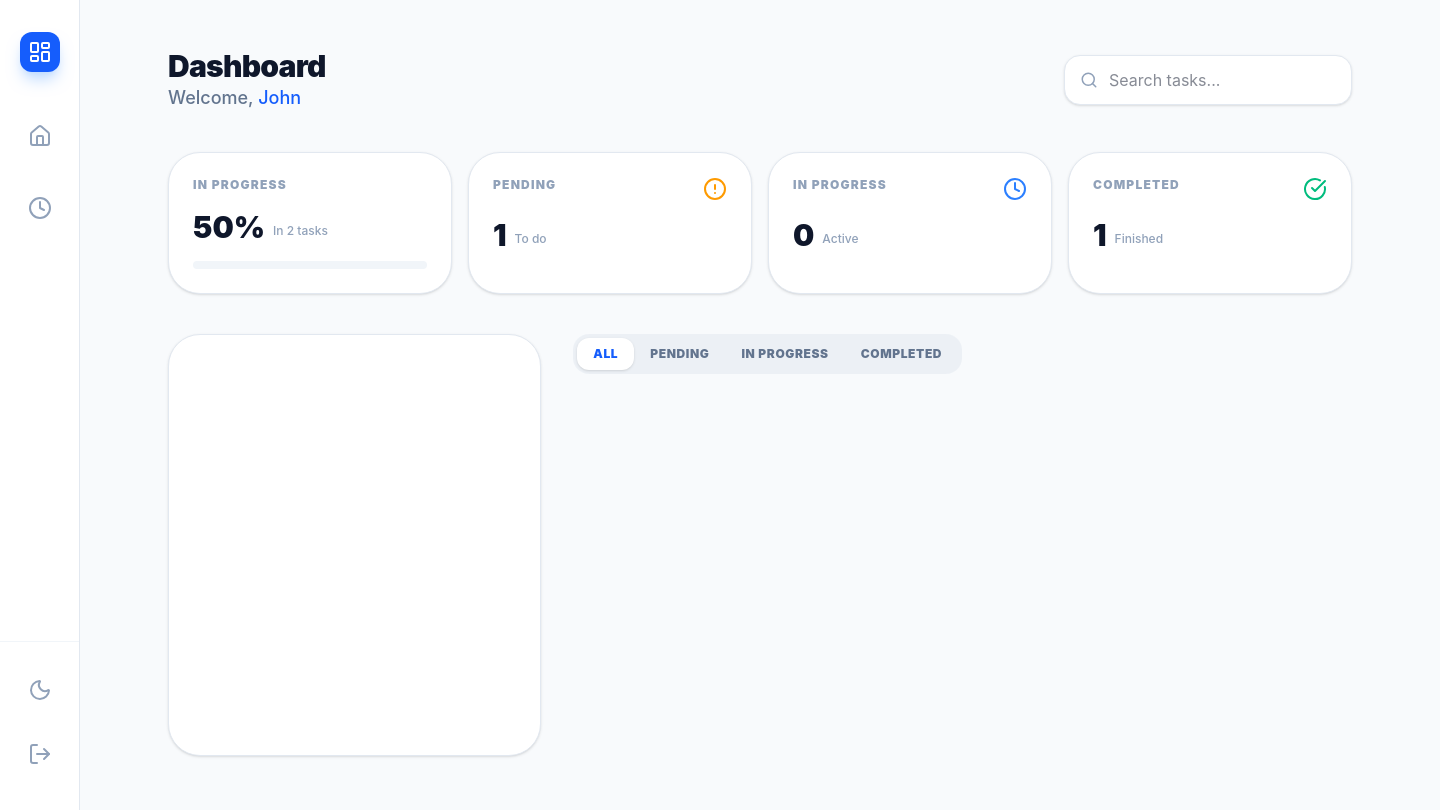
Dashboard Component › should filter tasks by the search term
Type "Task 1" into the field with placeholder "Search tasks...".
click(1208, 80); type("Task 1")  # box [1064,55,1352,105]
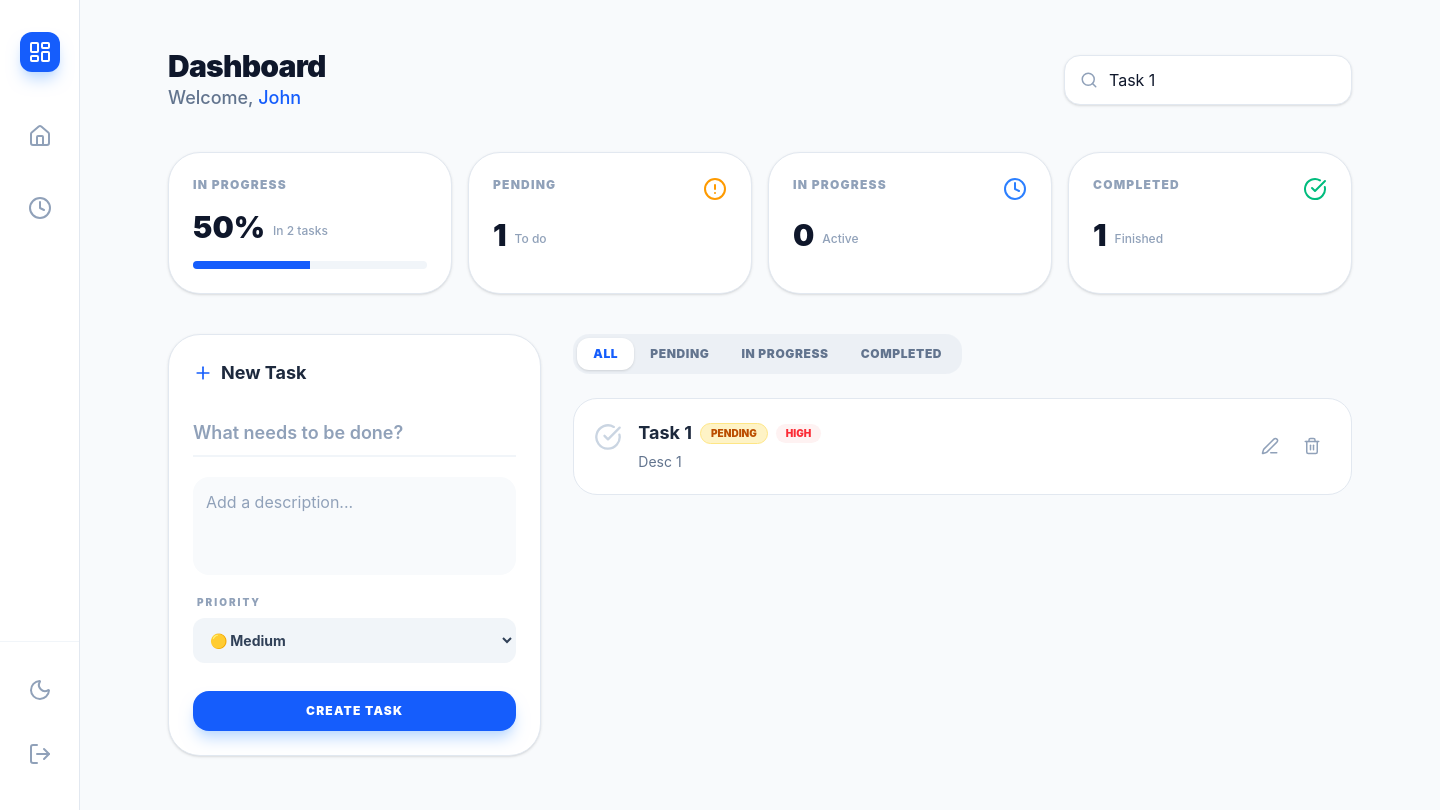
Expected: the heading "Task 1" is shown, [638,419,692,447]
